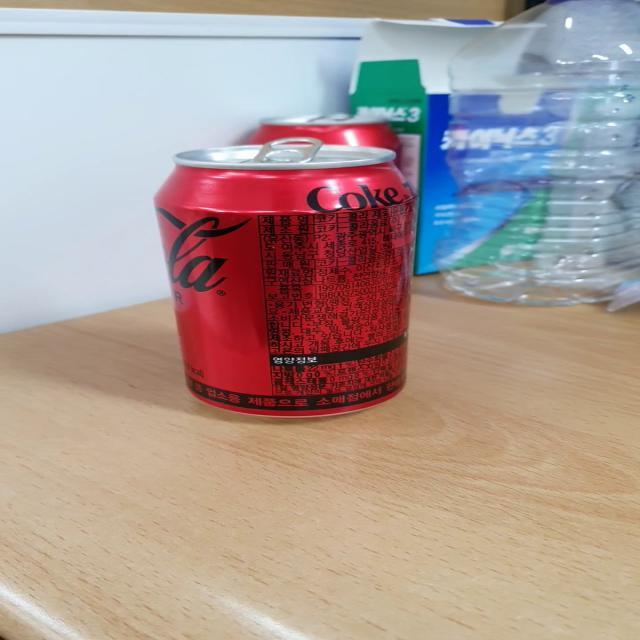coca-cola: (120, 128, 454, 440)
